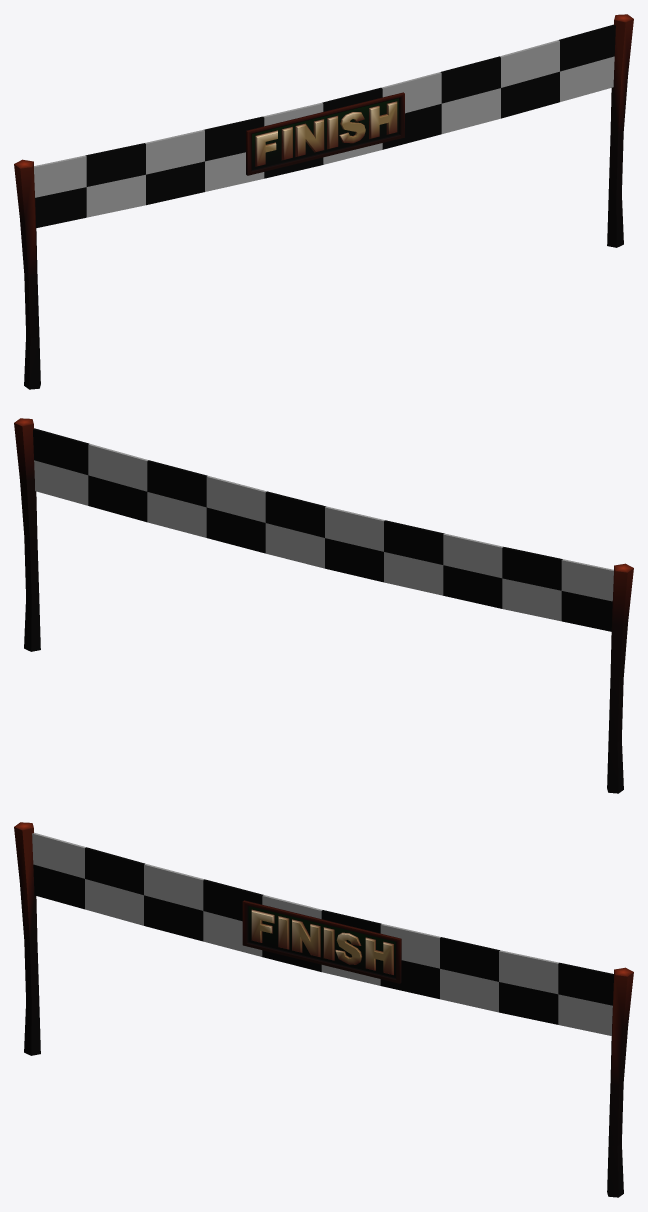
Rendered from finish.glb.
The picture shows the model from 3 angles, top to bottom: view 1: azimuth 30°, elevation 25°; view 2: azimuth 150°, elevation 25°; view 3: azimuth 330°, elevation 25°; orthographic projection.
Parts seen in each view (by area): view 1: finish_line; view 2: finish_line; view 3: finish_line.
Part boxes in pixels (x1,y1,x2,y2): finish_line: (14,14,633,389); finish_line: (14,418,633,793); finish_line: (14,822,633,1197).
Size of the model in its own units: 20.98 by 7.33 by 0.6035.
Materials: 1 (1 with a texture image).
